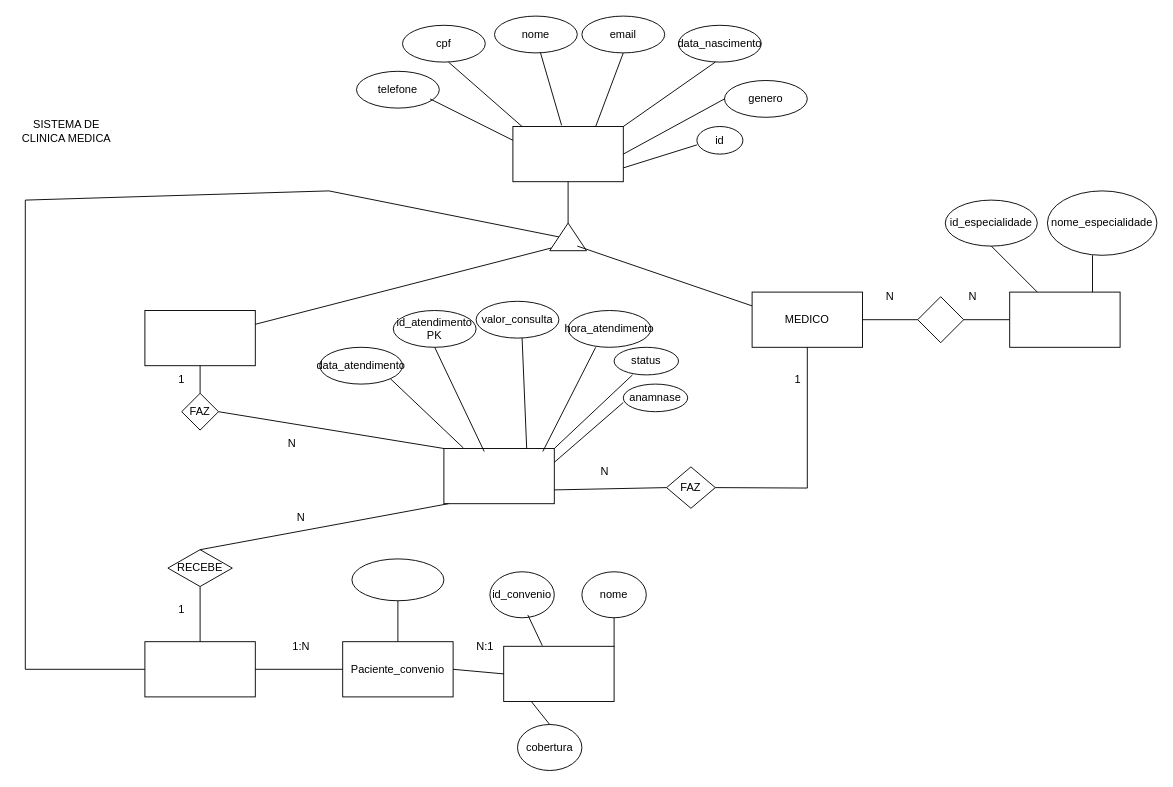
This 1173x787 diagram has some shape labels left out. Each missing label, with the box of its shape:
ATENDIMENTO: (443, 448, 554, 504)
CONVENIO: (503, 645, 614, 702)
ESPECIALIDADE: (1009, 291, 1120, 347)
numero_carteirinha: (351, 558, 444, 601)
PACIENTE: (144, 641, 255, 697)
POSSUI: (917, 296, 964, 343)
RECEPCIONISTA: (144, 310, 255, 366)
USUARIO: (512, 126, 623, 182)
